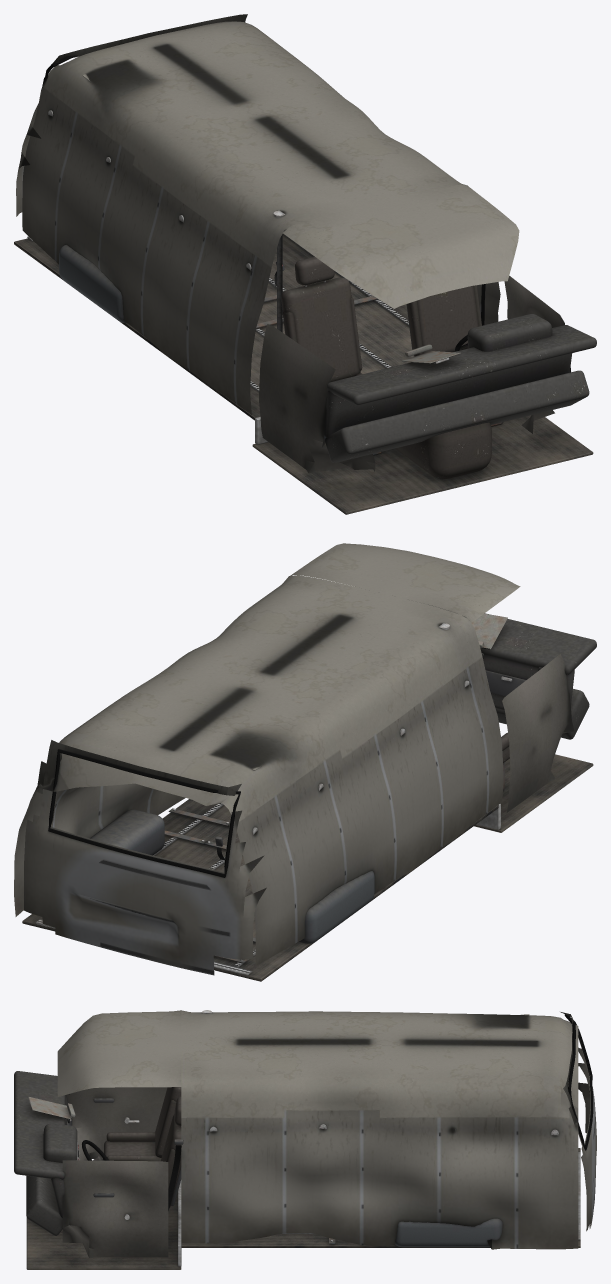
The picture shows the model from 3 angles, top to bottom: view 1: azimuth 30°, elevation 25°; view 2: azimuth 150°, elevation 25°; view 3: azimuth 270°, elevation 25°; orthographic projection. The views are drawn at different scales.
Visible parts, largest first — view 1: bus_raum, bus_einbau; view 2: bus_raum, bus_einbau; view 3: bus_raum, bus_einbau.
Part boxes in pixels (x1=…): bus_raum: x1=14, y1=14, x2=593, y2=514; bus_einbau: x1=27, y1=47, x2=596, y2=479; bus_raum: x1=14, y1=543, x2=593, y2=981; bus_einbau: x1=35, y1=604, x2=596, y2=975; bus_raum: x1=26, y1=1010, x2=596, y2=1269; bus_einbau: x1=14, y1=1010, x2=580, y2=1243.
Bounding box in the file's own units: 1.92 × 1.53 × 4.52.
Materials: 2 (2 with a texture image).
